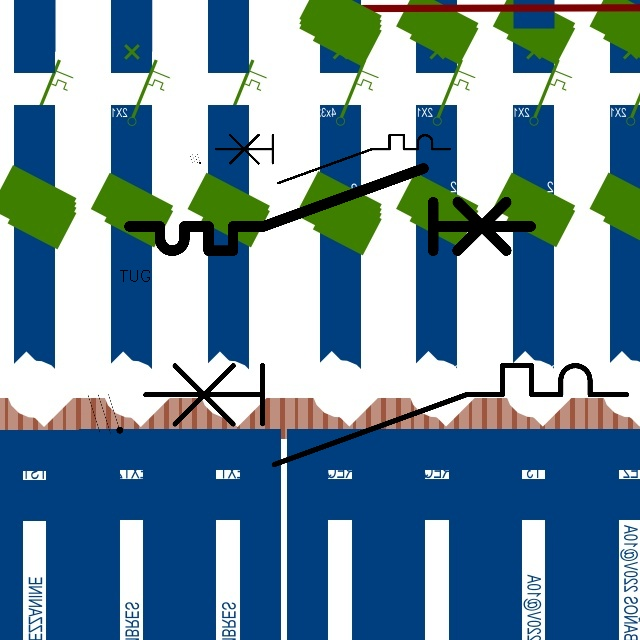interruptor_termomagnetico: (133, 353, 639, 477), (119, 158, 541, 261), (209, 129, 455, 189)
